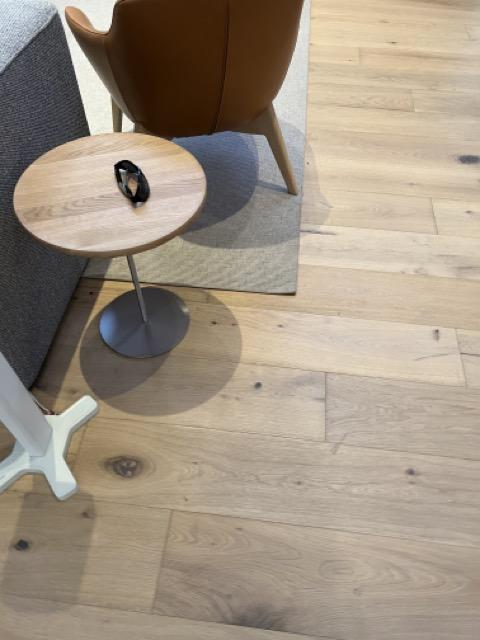Sunglasses: (112, 159, 151, 209)
